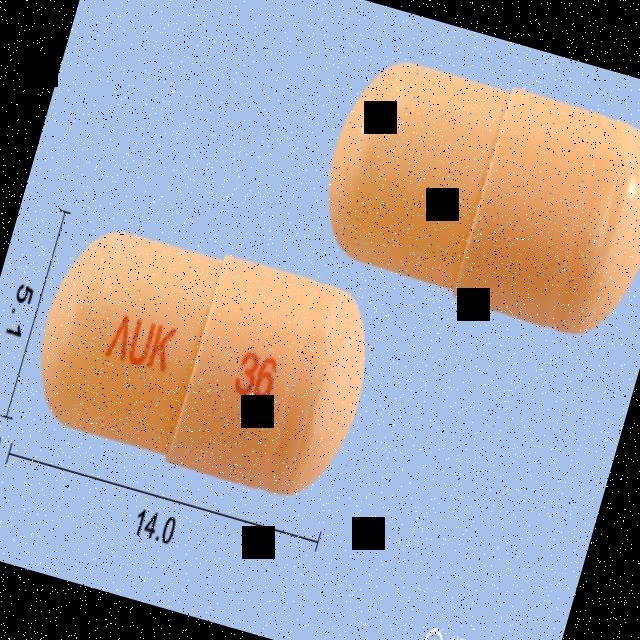Ausfixime Cap: (14, 206, 392, 514)
